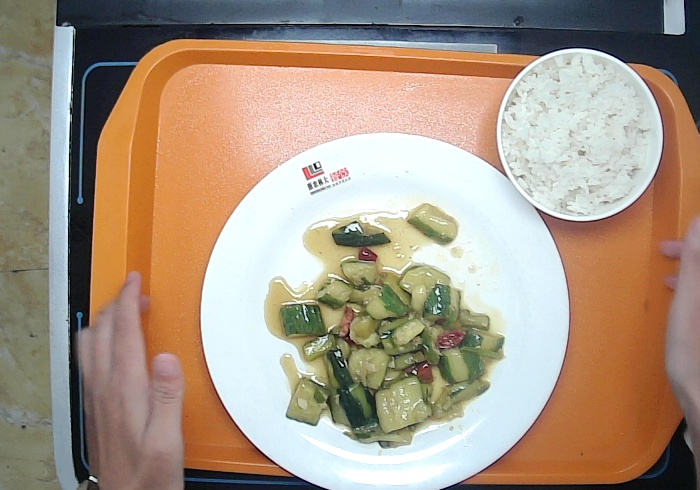ZNLD-Da_Yuan_Pan: (195, 128, 572, 490)
